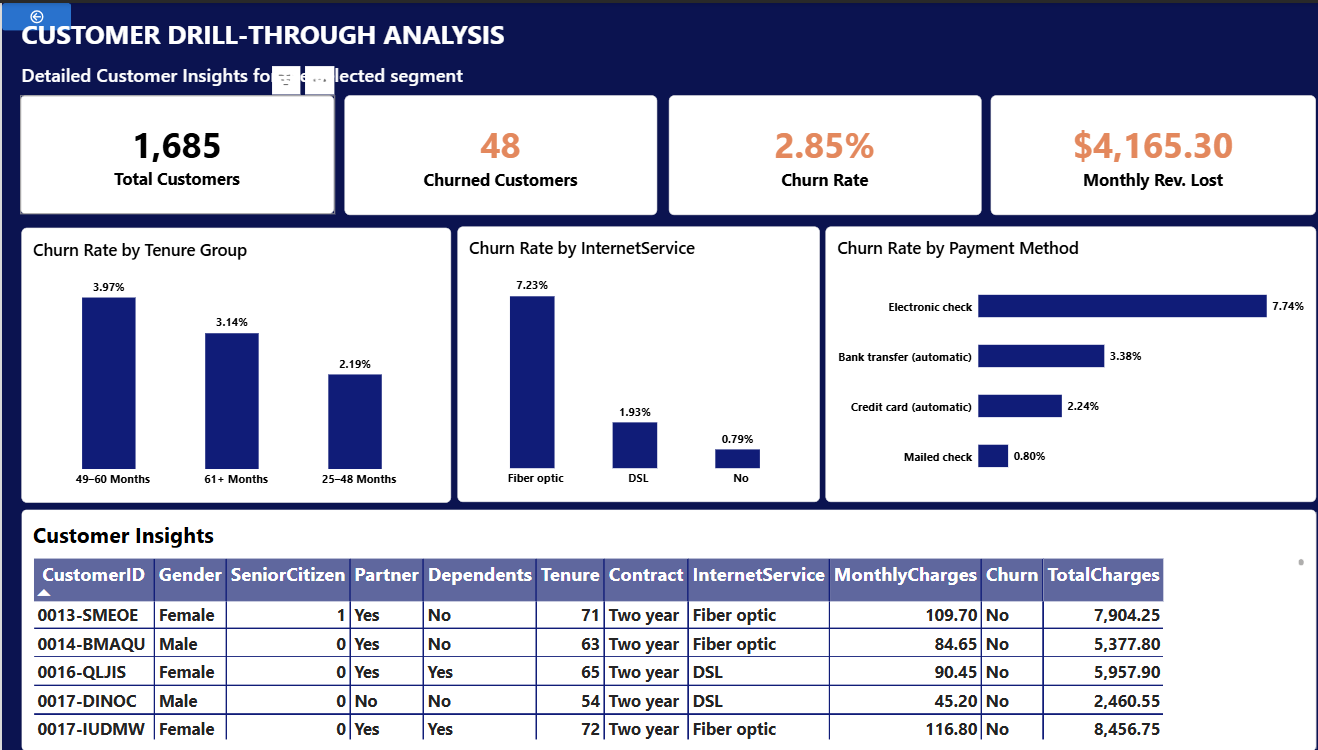

What the dashboard file says about the page in this screenshot:
{"tool":"powerbi","page":{"name":"CUSTOMER DRILL-THROUGH","canvas":[1920,1080],"ordinal":5},"visuals":[{"type":"actionButton","box":[0,0,100,40],"z":0},{"type":"card","fields":{"Values":["Telecom_Churn_Dataset.Total Customers"]},"box":[26.8,133.8,452.9,170.9],"z":1000},{"type":"card","fields":{"Values":["Telecom_Churn_Dataset.Churned Customers"]},"box":[494,133.8,450.8,172.9],"z":2000},{"type":"card","fields":{"Values":["Telecom_Churn_Dataset.Churn Rate"]},"box":[961.3,133.8,450.8,172.9],"z":3000},{"type":"card","fields":{"Values":["Telecom_Churn_Dataset.Monthly Rev. Lost"]},"box":[1426.5,133.8,469.3,172.9],"z":4000},{"type":"clusteredColumnChart","title":"Churn Rate by Tenure Group","fields":{"Category":["Telecom_Churn_Dataset.Tenure Group"],"Y":["Telecom_Churn_Dataset.Churn Rate"]},"box":[27.6,323.9,620.1,396.7],"z":5000},{"type":"clusteredBarChart","title":"Churn Rate by Payment Method","fields":{"Category":["Telecom_Churn_Dataset.PaymentMethod"],"Y":["Telecom_Churn_Dataset.Churn Rate"]},"box":[1187.8,323.2,708.1,397.3],"z":6000},{"type":"clusteredColumnChart","fields":{"Y":["Telecom_Churn_Dataset.Churn Rate"],"Category":["Telecom_Churn_Dataset.InternetService"]},"box":[656.7,323.2,522.9,397.3],"z":7000},{"type":"tableEx","title":"Customer Insights","fields":{"Values":["Telecom_Churn_Dataset.CustomerID","Telecom_Churn_Dataset.Gender","Telecom_Churn_Dataset.SeniorCitizen","Telecom_Churn_Dataset.Partner","Telecom_Churn_Dataset.Dependents","Telecom_Churn_Dataset.Tenure","Telecom_Churn_Dataset.Contract","Telecom_Churn_Dataset.InternetService","Telecom_Churn_Dataset.MonthlyCharges","Telecom_Churn_Dataset.Churn","Telecom_Churn_Dataset.TotalCharges"]},"box":[27.6,730.6,1868,349],"z":8000},{"type":"textbox","box":[27.6,20.1,803.4,65.3],"z":9000},{"type":"textbox","box":[27.6,85.4,698,65.3],"z":10000}]}

Visuals, with their boxes on the page's 1920x1080 design canvas (x1, y1, x2, y2). These are canvas units, not pixel positions in the 1318x750 screenshot, which may show the page scaled, cropped or inside an application window:
actionButton: [0, 0, 100, 40]
card - Telecom_Churn_Dataset.Total Customers: [27, 134, 480, 305]
card - Telecom_Churn_Dataset.Churned Customers: [494, 134, 945, 307]
card - Telecom_Churn_Dataset.Churn Rate: [961, 134, 1412, 307]
card - Telecom_Churn_Dataset.Monthly Rev. Lost: [1426, 134, 1896, 307]
"Churn Rate by Tenure Group" clusteredColumnChart: [28, 324, 648, 721]
"Churn Rate by Payment Method" clusteredBarChart: [1188, 323, 1896, 720]
clusteredColumnChart - Telecom_Churn_Dataset.Churn Rate x Telecom_Churn_Dataset.InternetService: [657, 323, 1180, 720]
"Customer Insights" tableEx: [28, 731, 1896, 1080]
textbox: [28, 20, 831, 85]
textbox: [28, 85, 726, 151]
